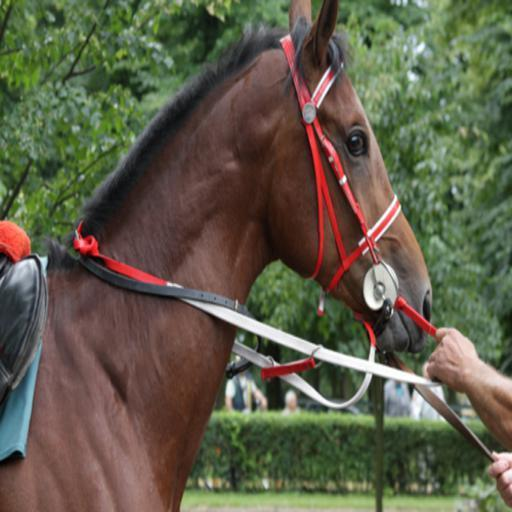horse: (0, 0, 435, 511)
